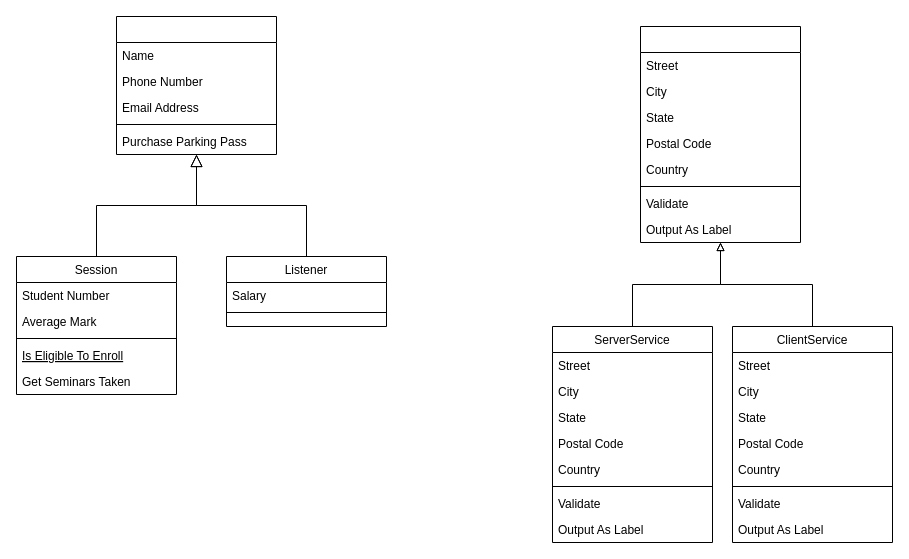
This 909x559 diagram has some shape labels left out. Here are the shapes that lost their labels. From the top down, the box of each, then its label:
(116, 16, 276, 154): IocpObject
(640, 26, 800, 242): Service
